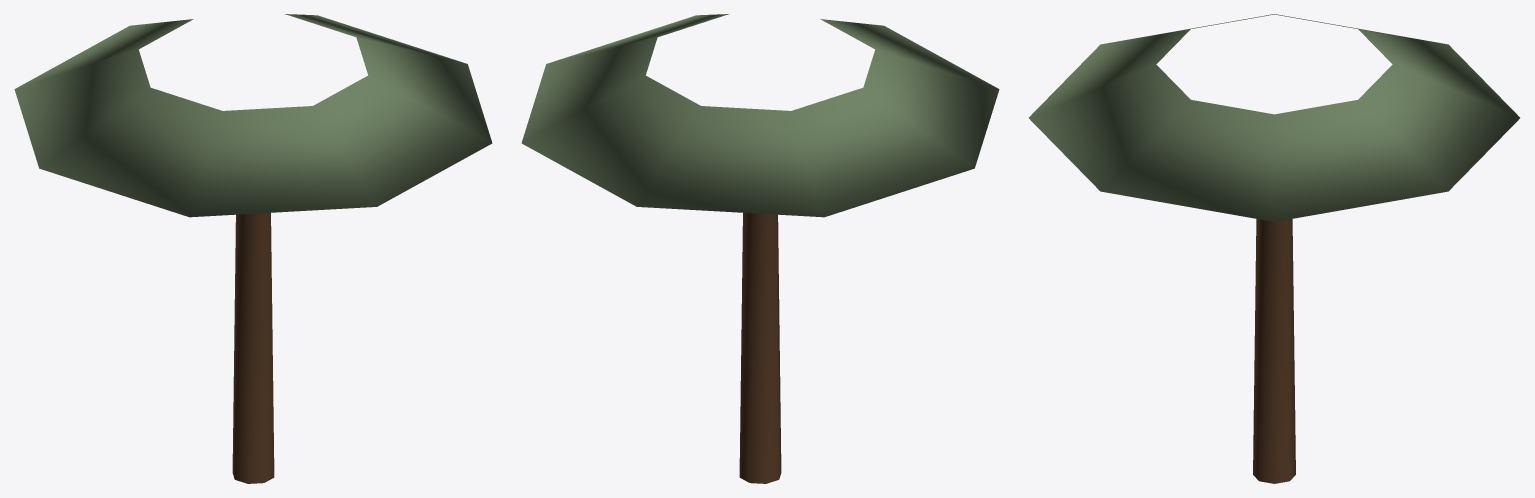
Rendered from gum-open.gltf.
The picture shows the model from 3 angles, left to right: view 1: azimuth 30°, elevation 25°; view 2: azimuth 150°, elevation 25°; view 3: azimuth 270°, elevation 25°; orthographic projection.
Visible parts, largest first — view 1: gum-open; view 2: gum-open; view 3: gum-open.
Part boxes in pixels (x1=…): gum-open: x1=14, y1=14, x2=492, y2=483; gum-open: x1=521, y1=14, x2=999, y2=483; gum-open: x1=1029, y1=14, x2=1519, y2=483.
Bounding box in the file's own units: 1 × 1 × 1.
